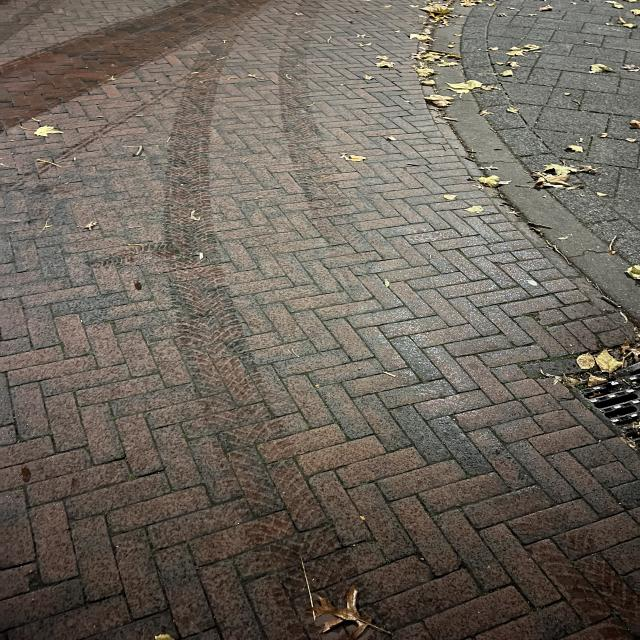leaves: (428, 128, 610, 219), (410, 4, 460, 125), (458, 0, 640, 30), (305, 578, 386, 638), (487, 33, 544, 118), (345, 22, 400, 81), (553, 349, 640, 380), (584, 56, 640, 83), (26, 115, 71, 144), (613, 112, 640, 149), (607, 254, 640, 280), (452, 83, 517, 96), (337, 144, 371, 167)
pavement: (0, 0, 639, 639)
